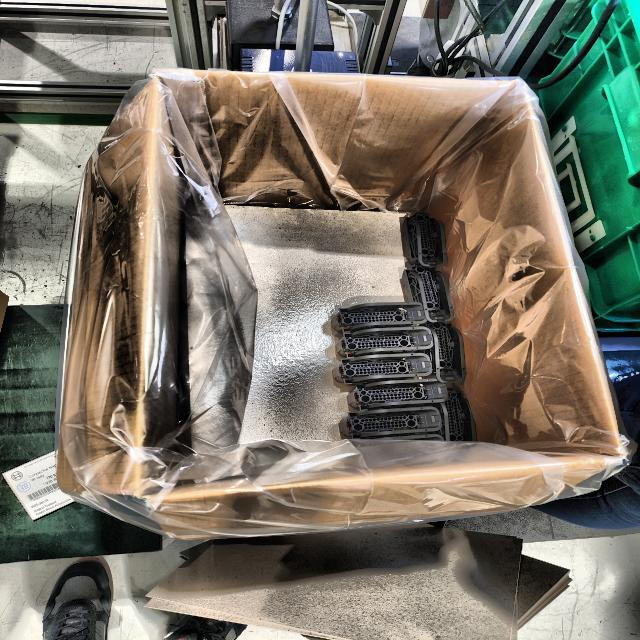P38: (347, 377, 448, 412), (333, 352, 434, 386), (339, 406, 443, 438), (336, 326, 434, 357), (331, 302, 428, 333), (400, 268, 454, 322), (401, 212, 448, 268), (426, 322, 466, 383), (440, 388, 477, 441)
